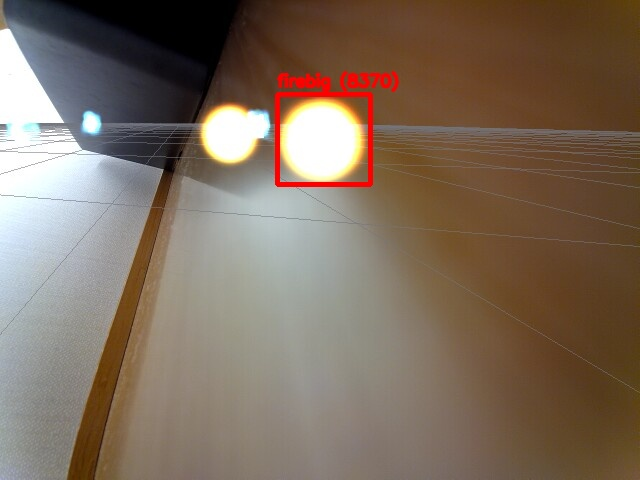firebig: (277, 94, 370, 184)
